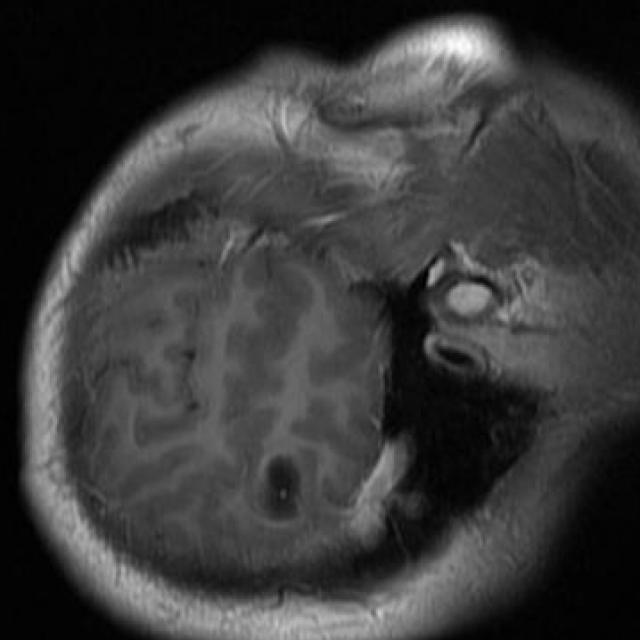glioma: (342, 440, 406, 549)
